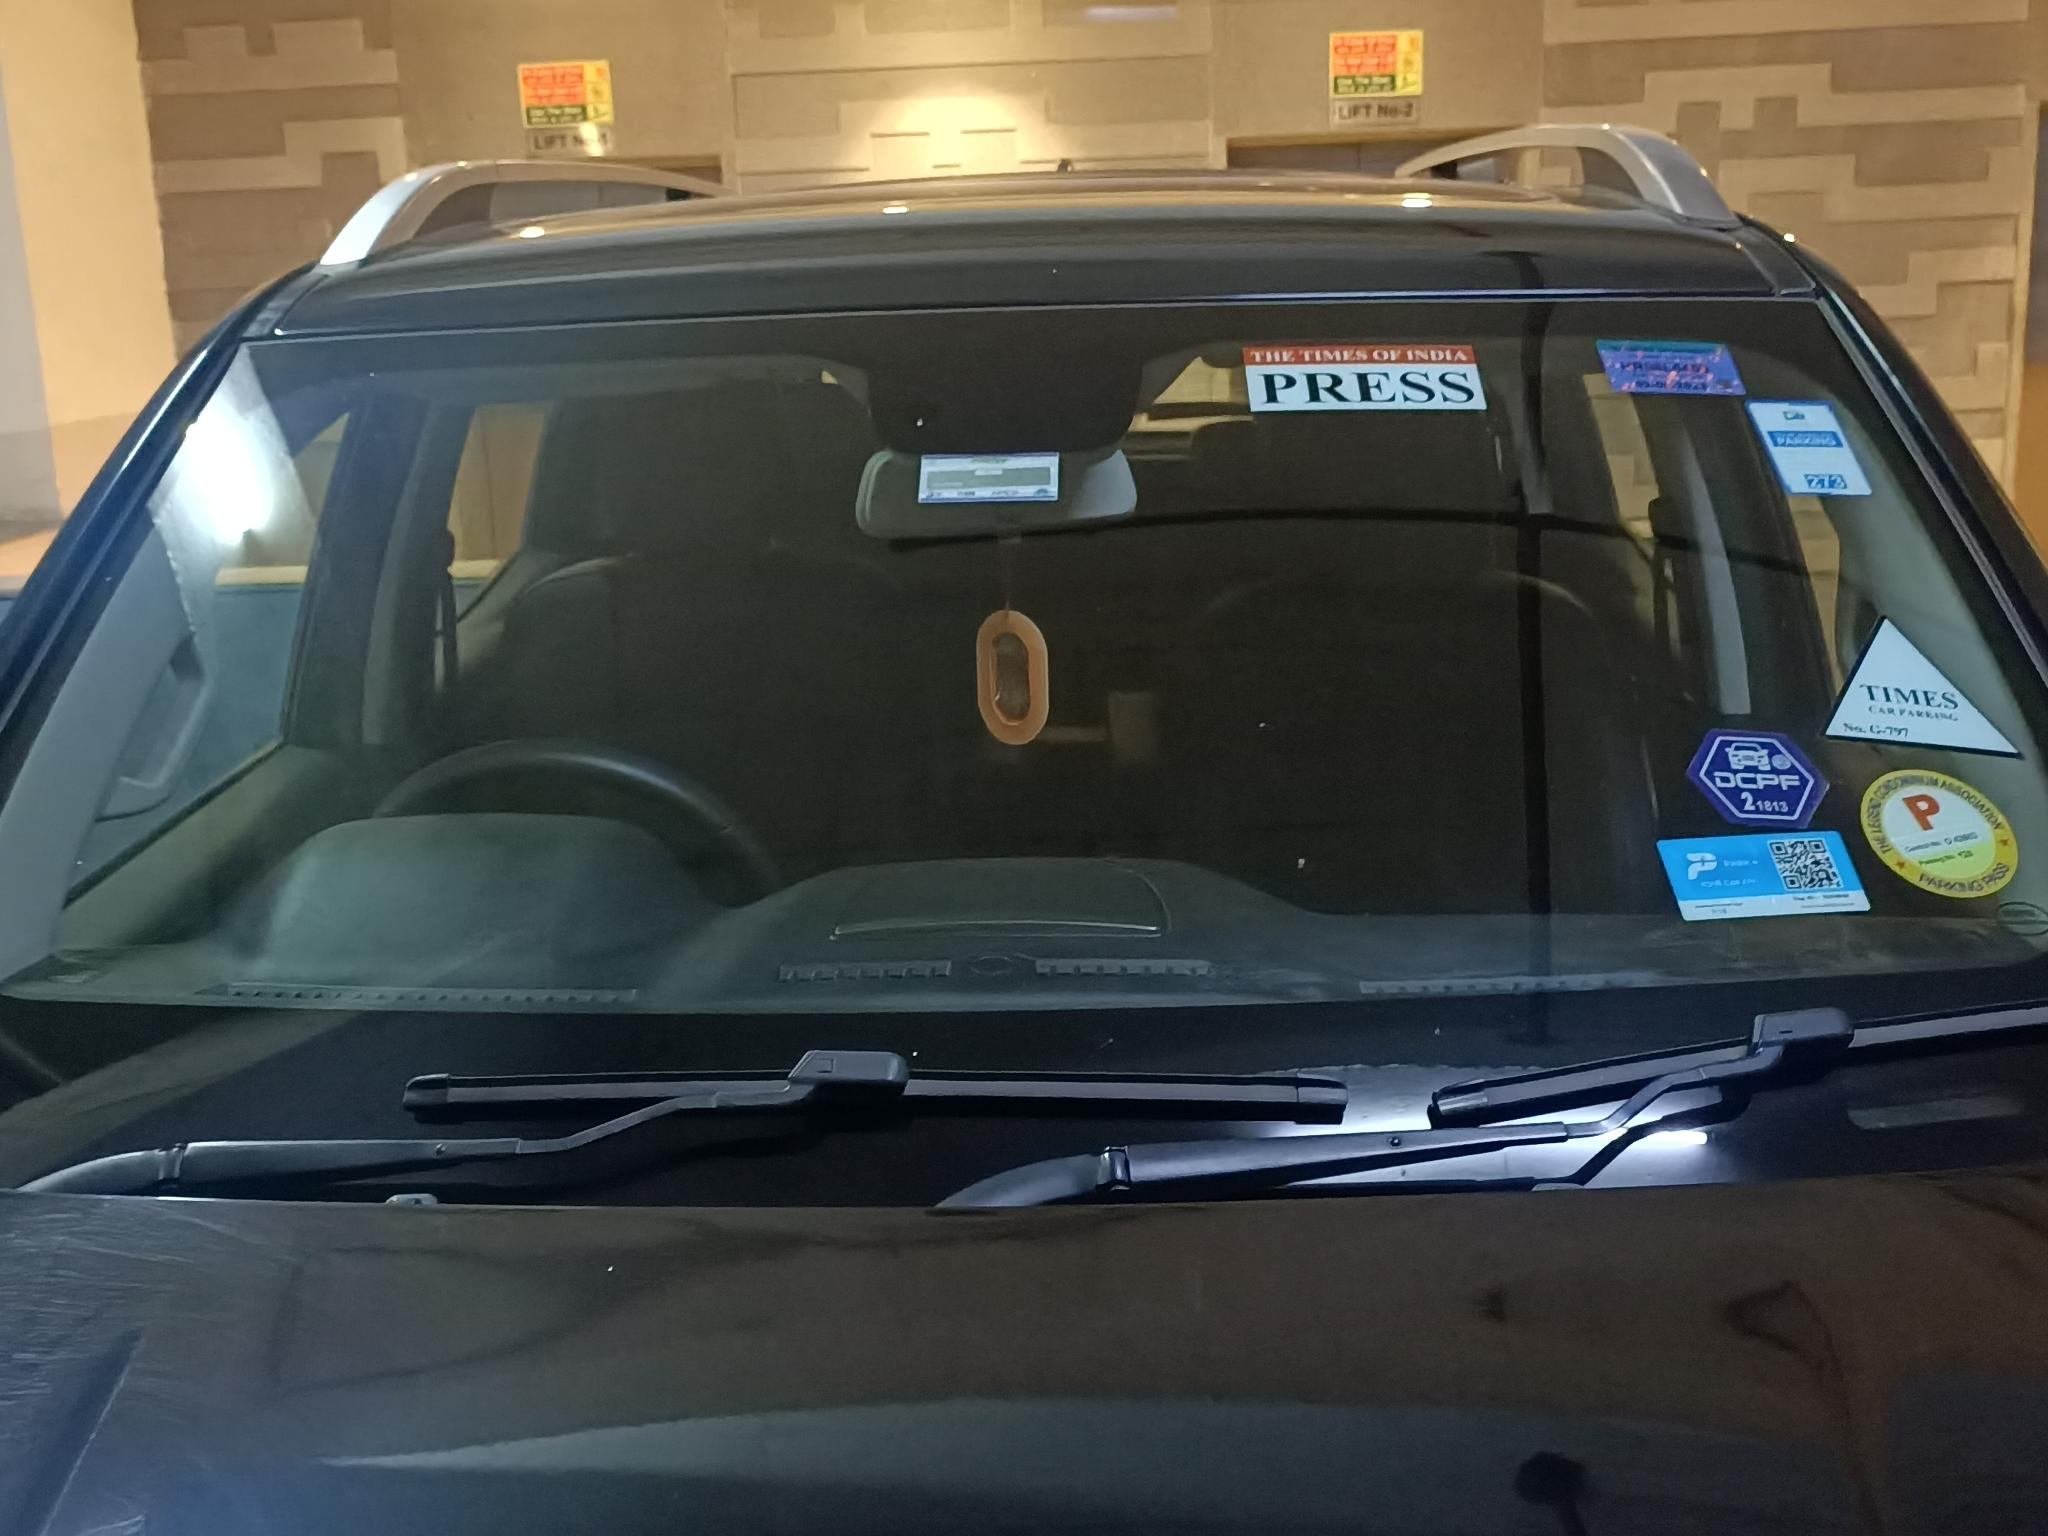FastTag: (908, 439, 1076, 516)
not a FastTag: (1858, 757, 2035, 902), (1817, 610, 2016, 739), (1655, 836, 1866, 928), (1248, 332, 1482, 411), (1687, 723, 1830, 829), (1748, 408, 1866, 511), (1576, 334, 1746, 395)
